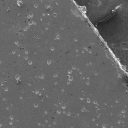corrosion: (14, 73, 23, 85), (26, 10, 35, 20), (52, 32, 61, 40), (45, 5, 53, 13), (15, 1, 24, 8), (33, 101, 40, 109), (66, 76, 74, 83), (45, 59, 52, 66), (10, 48, 17, 55), (34, 89, 41, 96), (120, 109, 126, 117), (27, 59, 33, 66), (49, 45, 56, 51), (67, 68, 73, 75), (28, 19, 34, 26), (37, 74, 44, 80), (22, 26, 29, 32), (52, 72, 58, 78), (73, 37, 79, 43), (85, 81, 91, 87), (87, 49, 93, 55), (86, 97, 91, 104), (4, 86, 9, 93), (56, 108, 61, 115), (14, 40, 19, 46), (24, 49, 29, 55), (8, 121, 13, 126)
